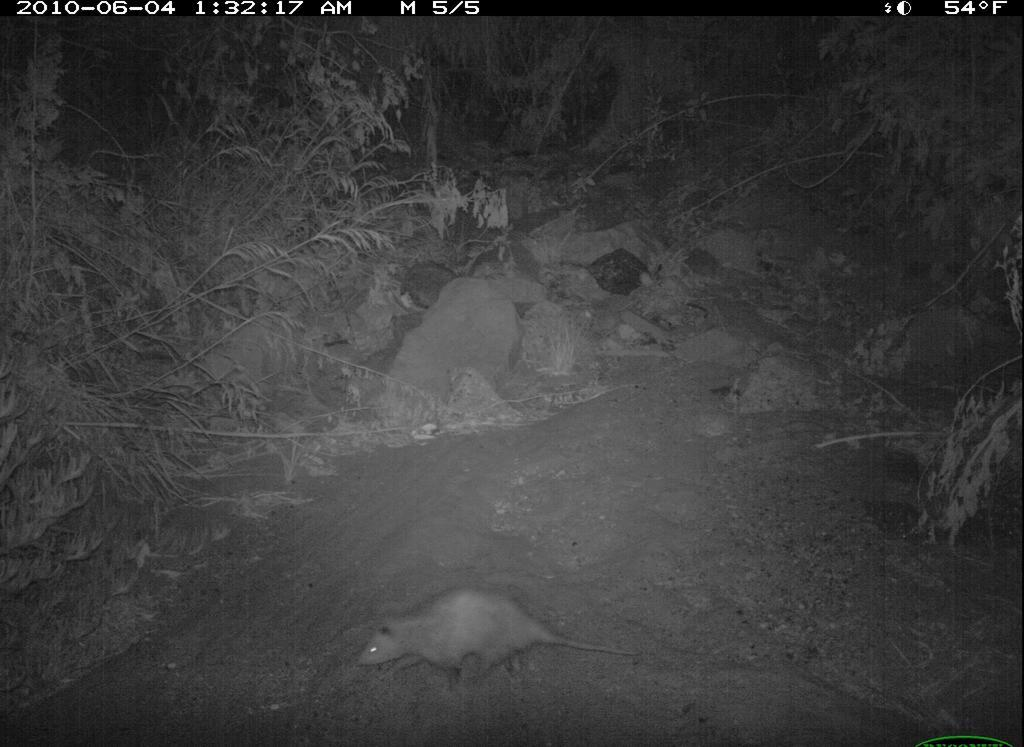opossum: (333, 562, 669, 721)
